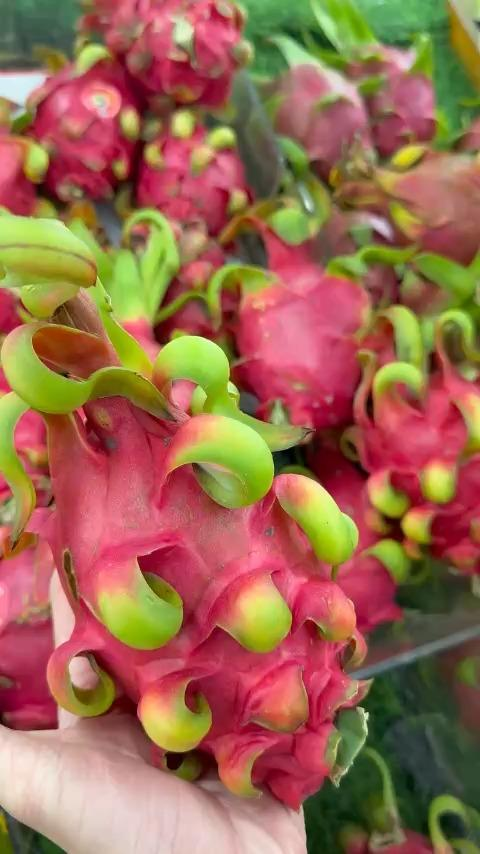dragon fruit: (22, 292, 373, 819), (213, 209, 363, 435), (353, 298, 480, 560), (23, 40, 133, 200), (143, 105, 248, 253), (90, 0, 249, 92)
